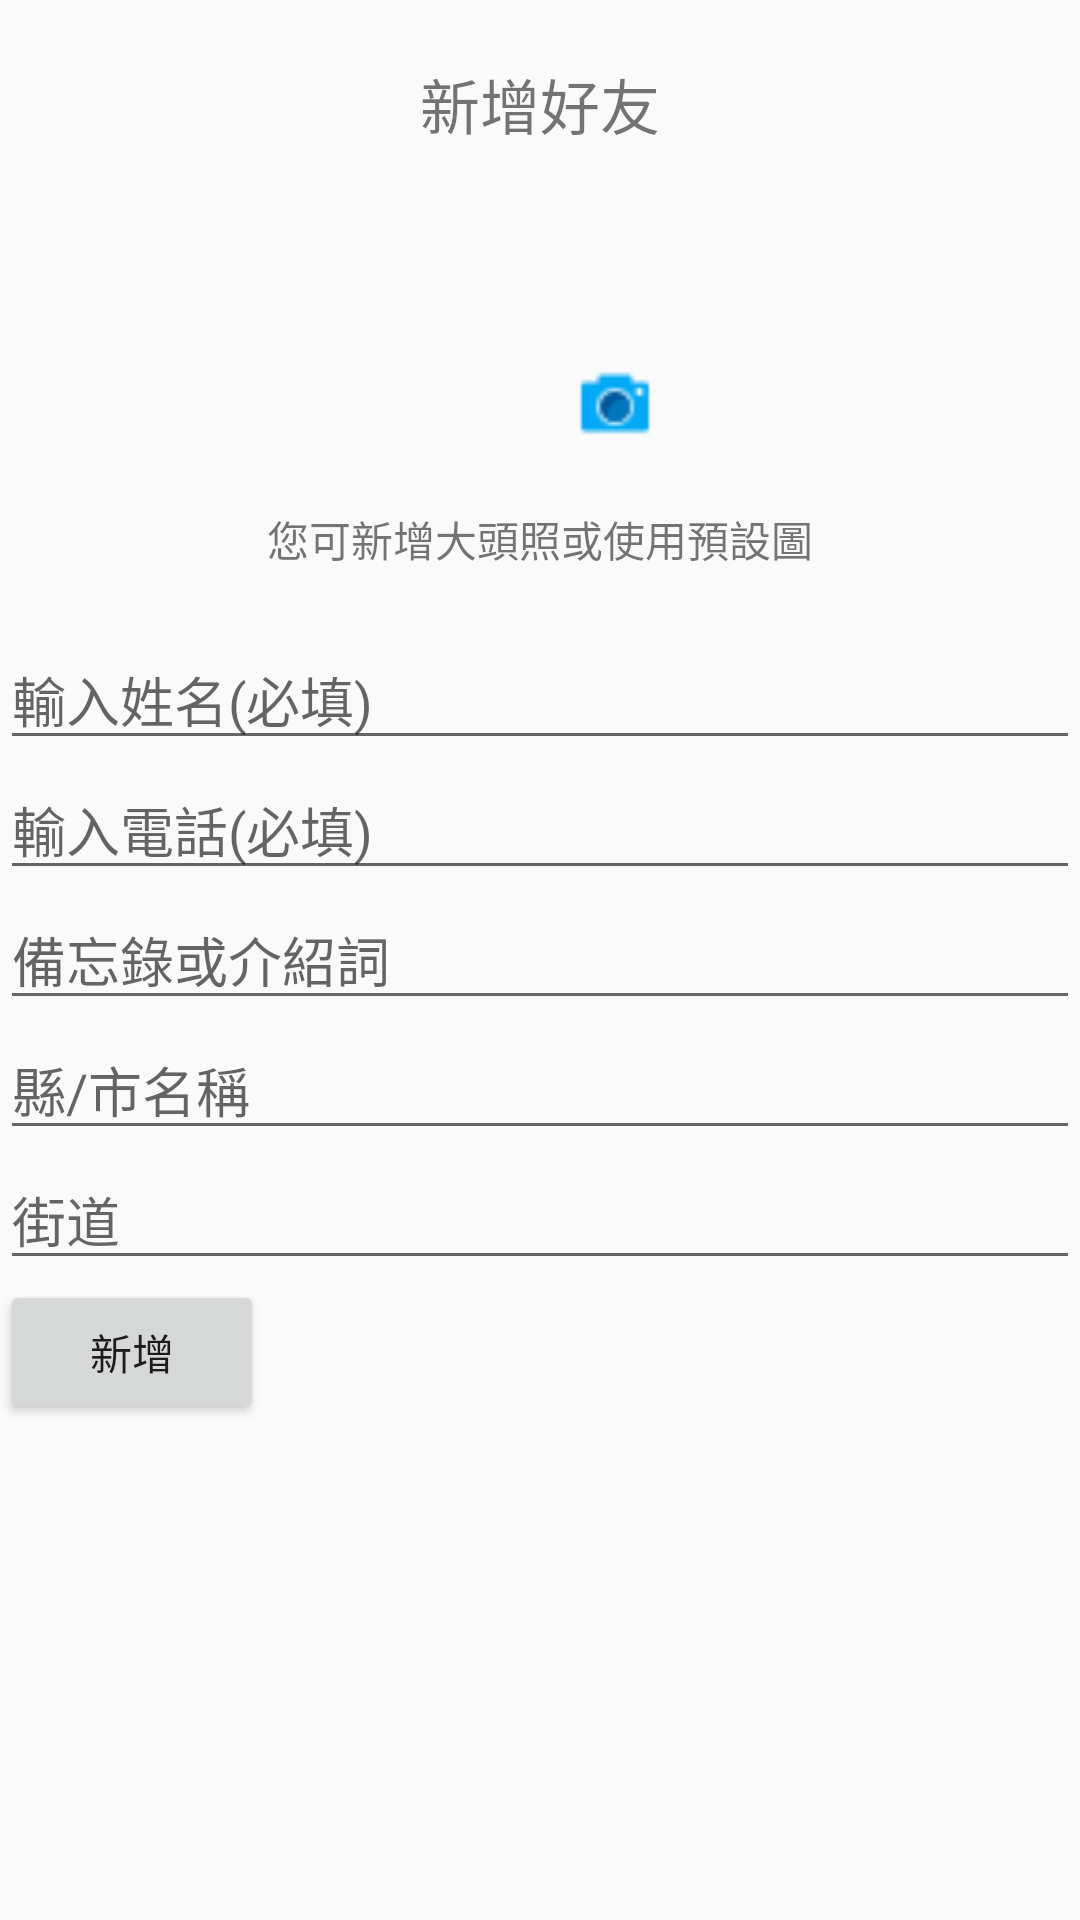

Locate icon controls on the screen. Image size 1080w x 1920h, boxes as (x1, y1, x2, y2).
camera: (580, 372, 650, 434)
